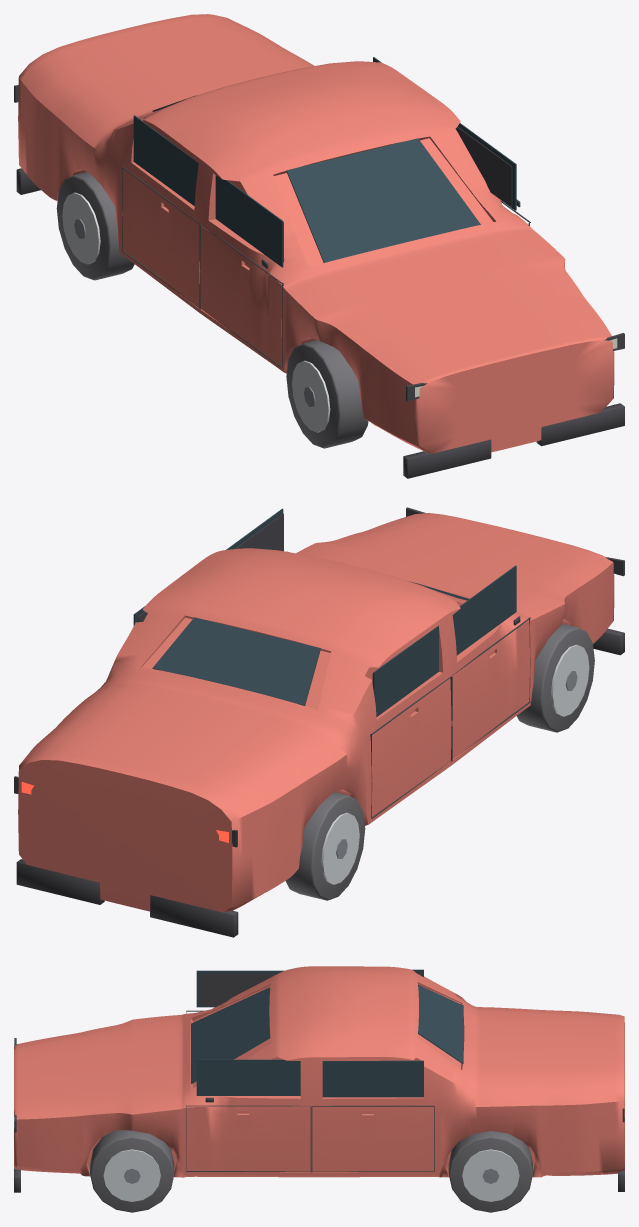
File: Sedan_Compact_22.fbx
3 views of the same model, one above another, from view 1: azimuth 30°, elevation 25°; view 2: azimuth 150°, elevation 25°; view 3: azimuth 270°, elevation 25° (orthographic). The views are drawn at different scales.
Parts seen in each view (by area): view 1: LOD0; view 2: LOD0; view 3: LOD0.
Part boxes in pixels (x1,y1,x2,y2): LOD0: [14, 14, 624, 478]; LOD0: [14, 507, 624, 937]; LOD0: [14, 966, 624, 1212].
Size of what is drawn, in the model's own units: 181 by 141 by 466.
